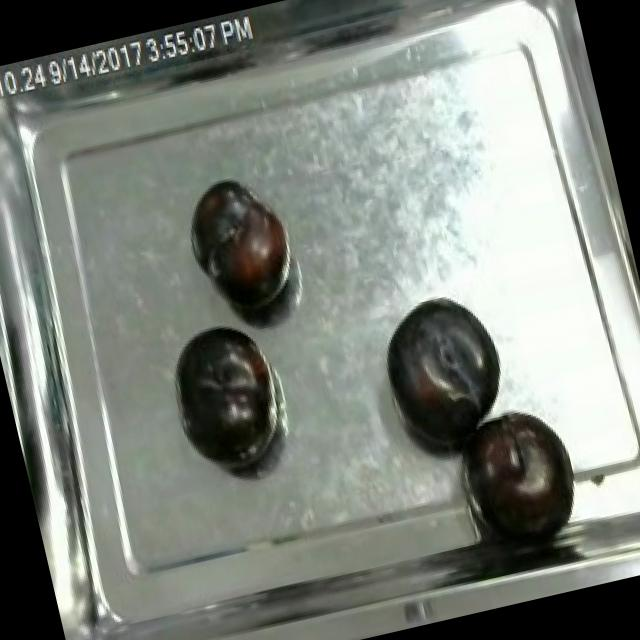Fruit: (367, 282, 518, 457), (451, 392, 589, 550), (158, 312, 290, 477), (176, 165, 304, 322)
